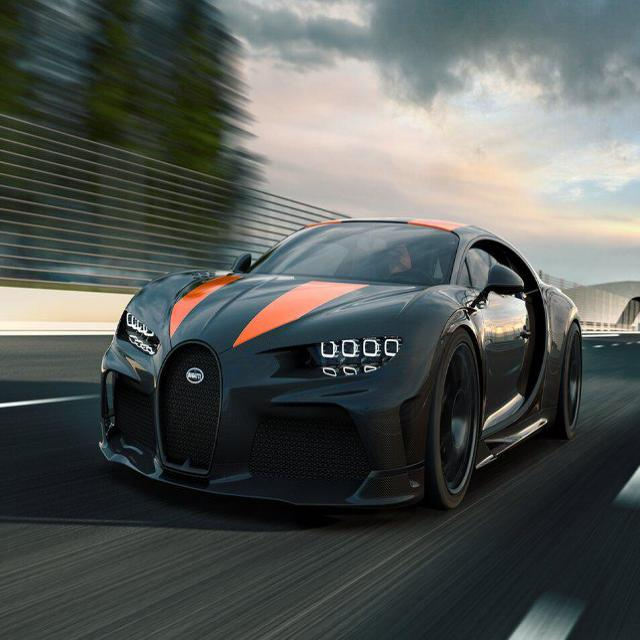car: (94, 186, 602, 523)
